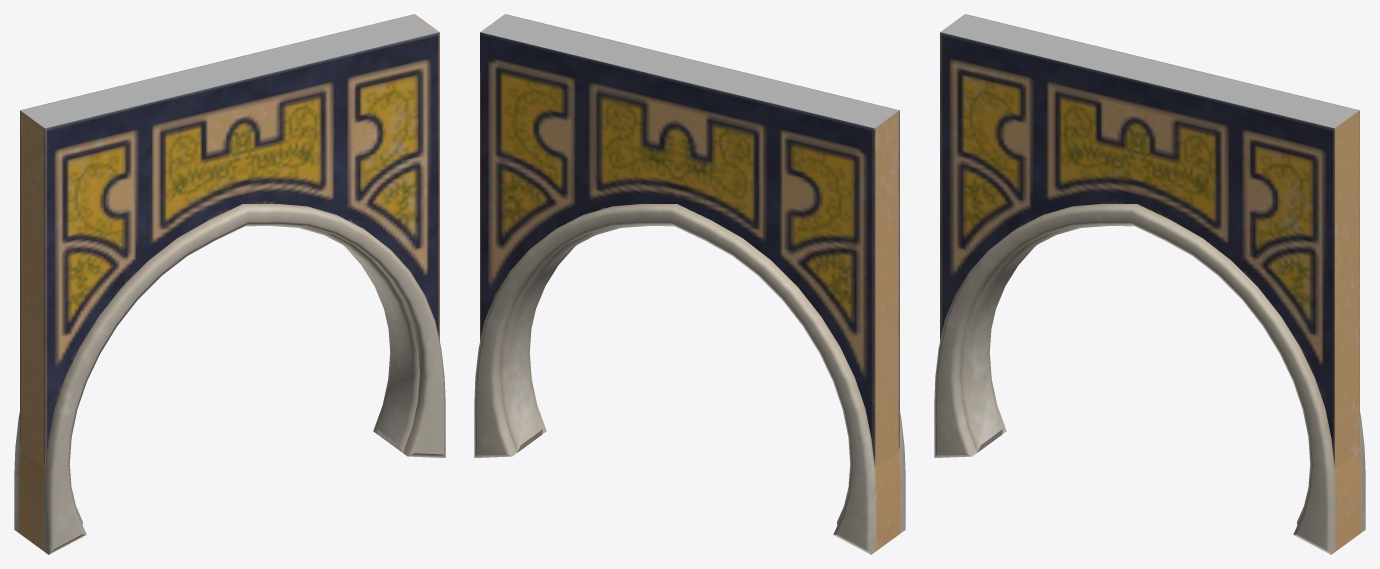
File: patrick-arch-4.glb
The picture shows the model from 3 angles, left to right: view 1: azimuth 30°, elevation 25°; view 2: azimuth 150°, elevation 25°; view 3: azimuth 330°, elevation 25°; orthographic projection.
Parts seen in each view (by area): view 1: Tanit_Arch_04; view 2: Tanit_Arch_04; view 3: Tanit_Arch_04.
Boxes of the visible parts, bbox=[...] form: Tanit_Arch_04: bbox=[14, 14, 445, 554]; Tanit_Arch_04: bbox=[474, 14, 905, 554]; Tanit_Arch_04: bbox=[934, 14, 1365, 554].
Size of the model in its own units: 0.0451 by 0.0459 by 0.00727.
1 material, 1 textured.
